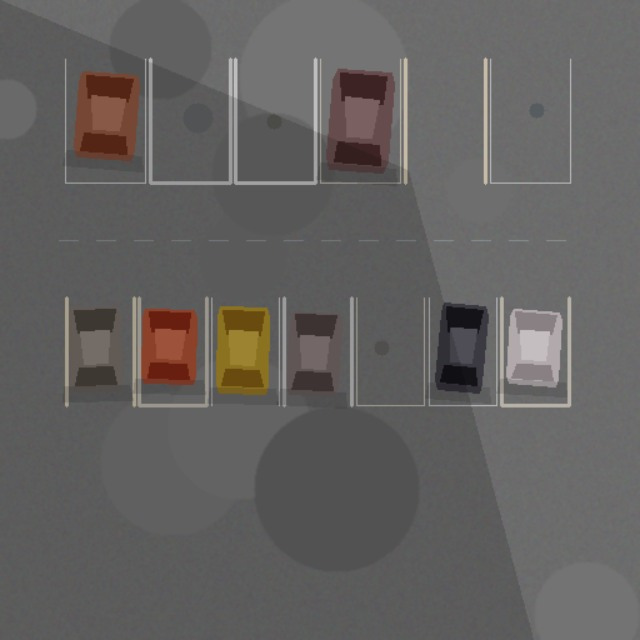space-empty: (150, 59, 230, 183), (235, 59, 315, 183), (405, 59, 485, 183), (490, 59, 570, 183), (356, 297, 424, 405)
space-occupied: (65, 59, 145, 183), (320, 59, 400, 183), (66, 297, 134, 405), (211, 297, 279, 405), (501, 297, 569, 405), (139, 297, 206, 405), (284, 297, 351, 405), (429, 297, 496, 405)
